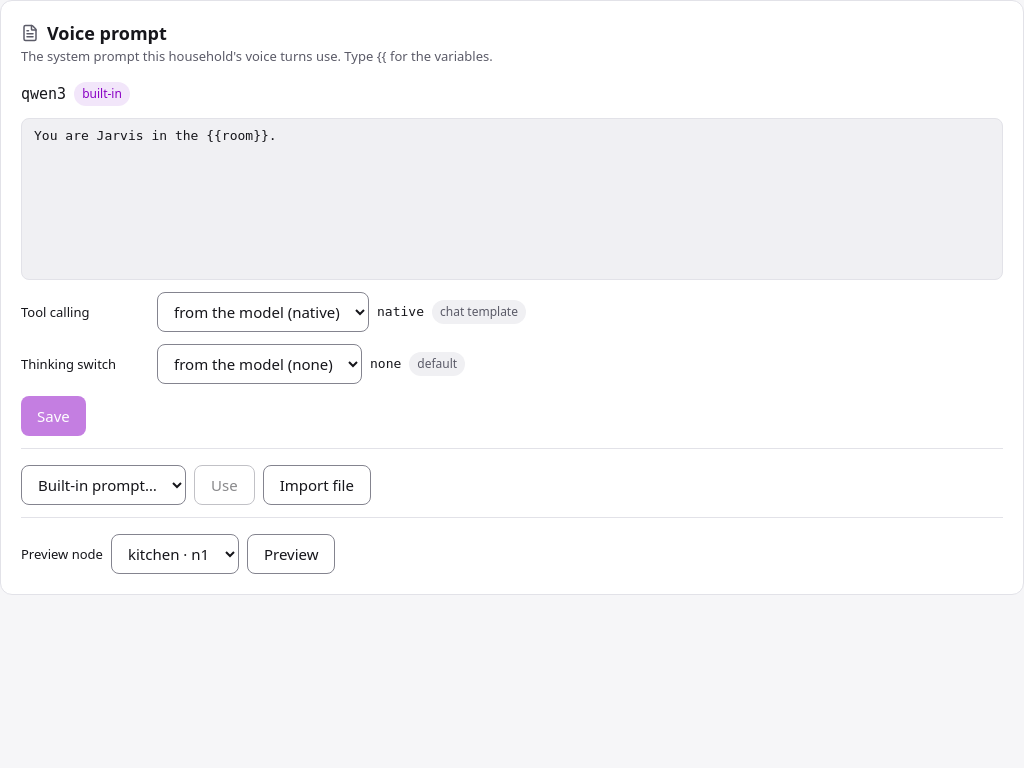
Test: PromptEditorCard › previews the draft for a node and notes a partial render
Expected: the dropdown labelled "Preview node" shows "kitchen · n1", [111, 534, 239, 574]
Click the button "Preview". click: point(291, 554)
box: [247, 534, 336, 574]
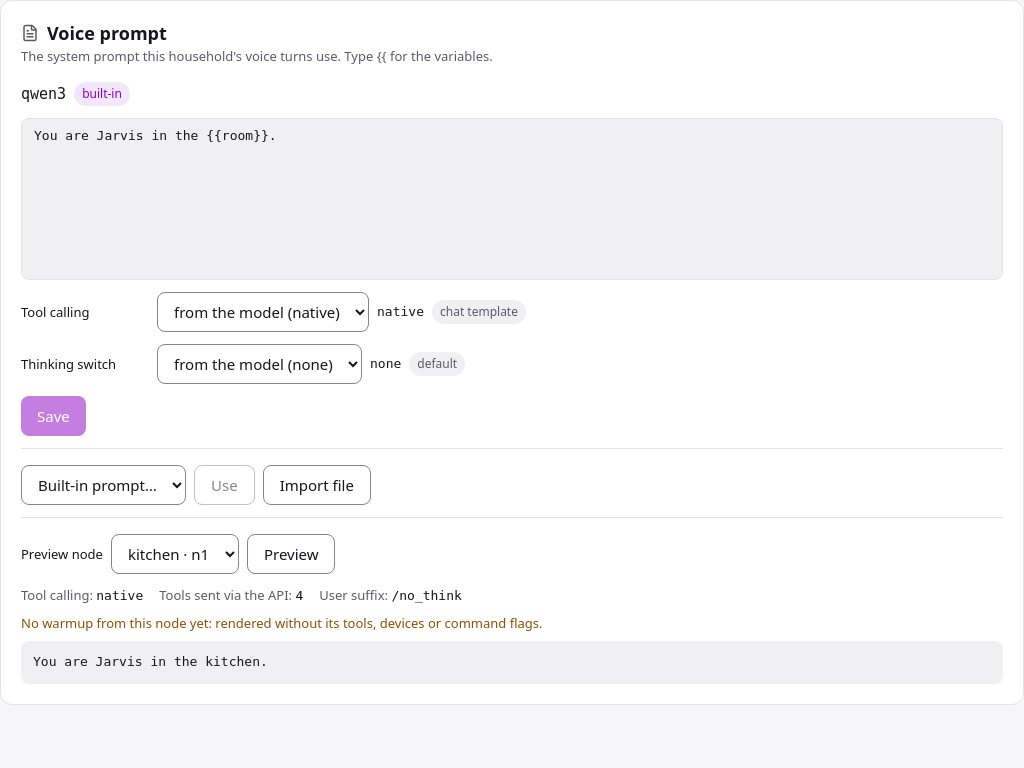
Expected: the text "You are Jarvis in the kitchen." is shown, [21, 641, 1003, 684]
Expected: the text "No warmup from this node yet" is shown, [21, 614, 542, 632]
Expected: the text "/no_think" is shown, [391, 588, 462, 603]
